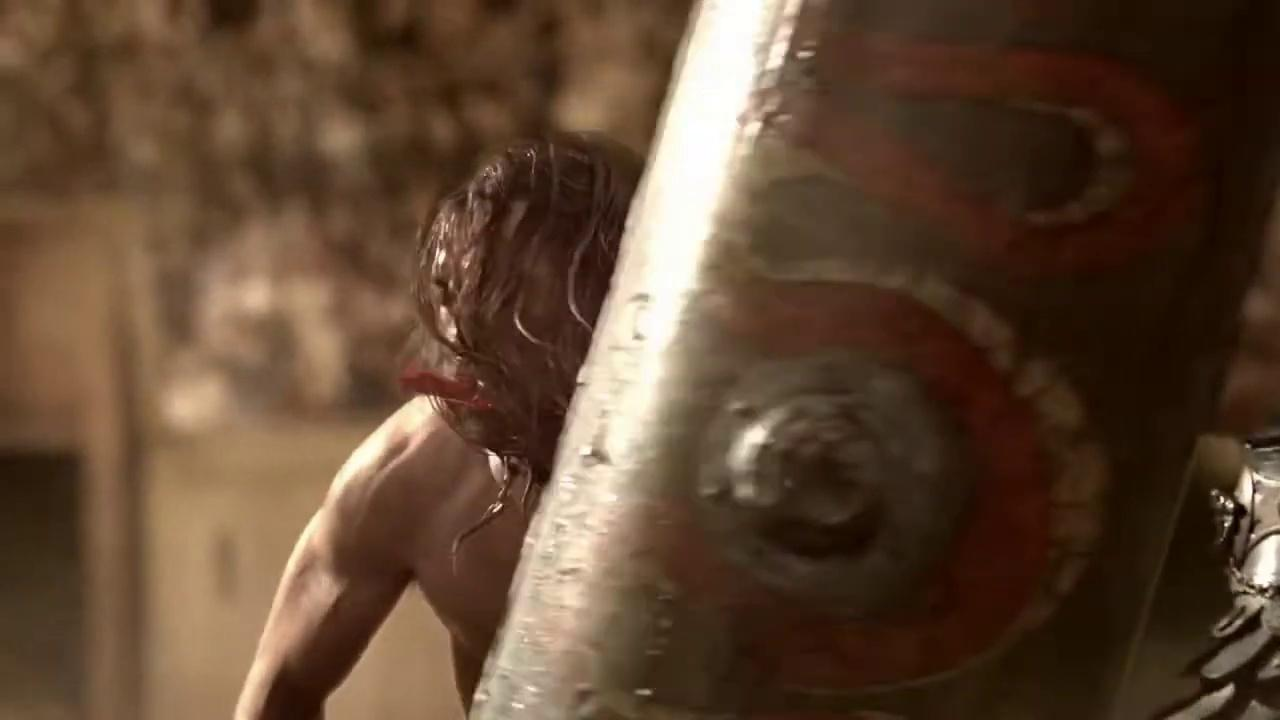Fire: (397, 361, 494, 410)
